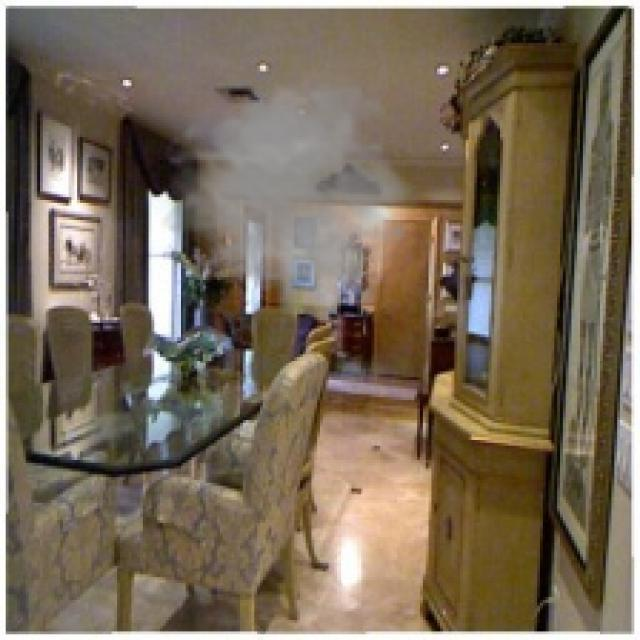Smoke: (157, 63, 426, 303)
